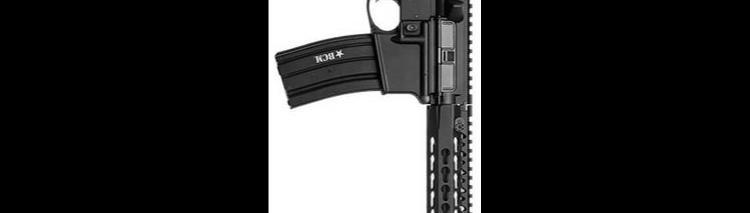gun: (275, 0, 474, 213)
